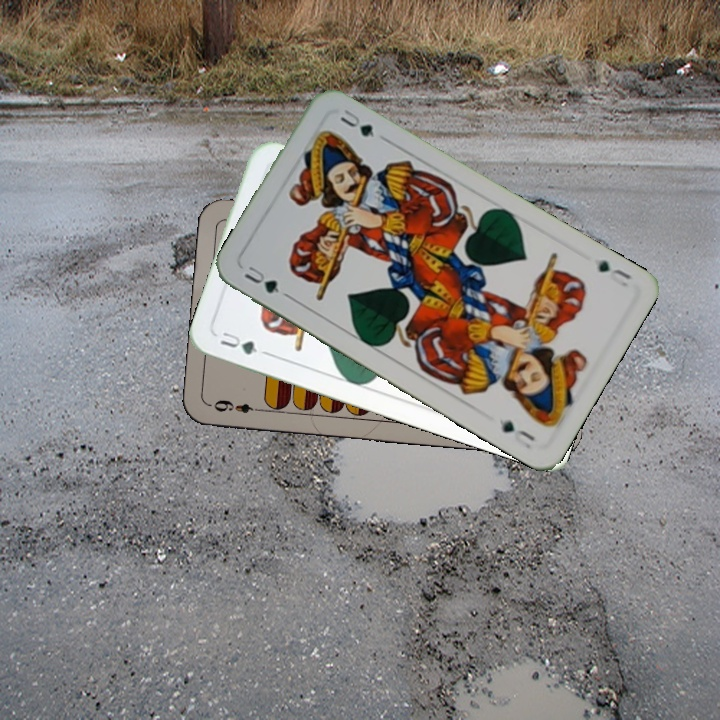E9: (210, 395, 266, 416)
GU: (216, 326, 270, 358), (240, 261, 282, 296), (594, 256, 634, 288)
